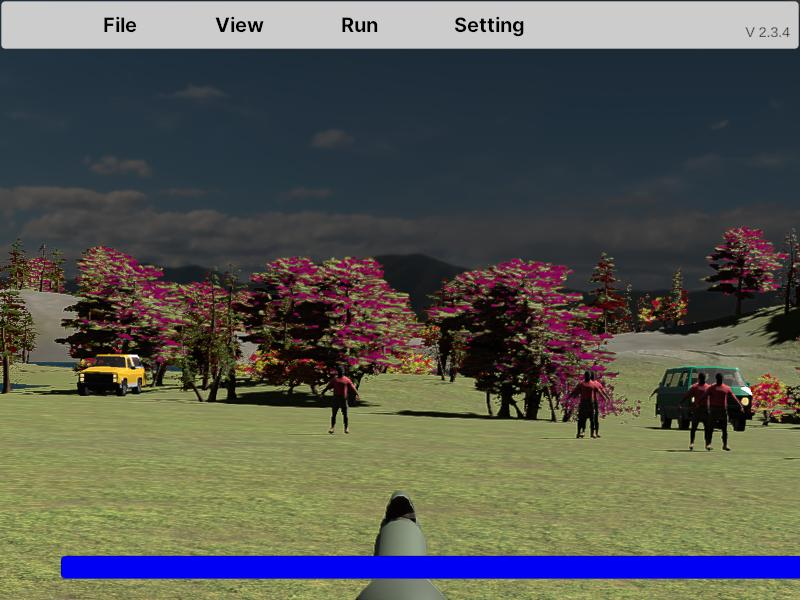Human: (696, 372, 745, 452), (568, 369, 607, 439), (322, 366, 360, 434)
car: (656, 366, 752, 430), (656, 366, 752, 429), (77, 353, 145, 397)
